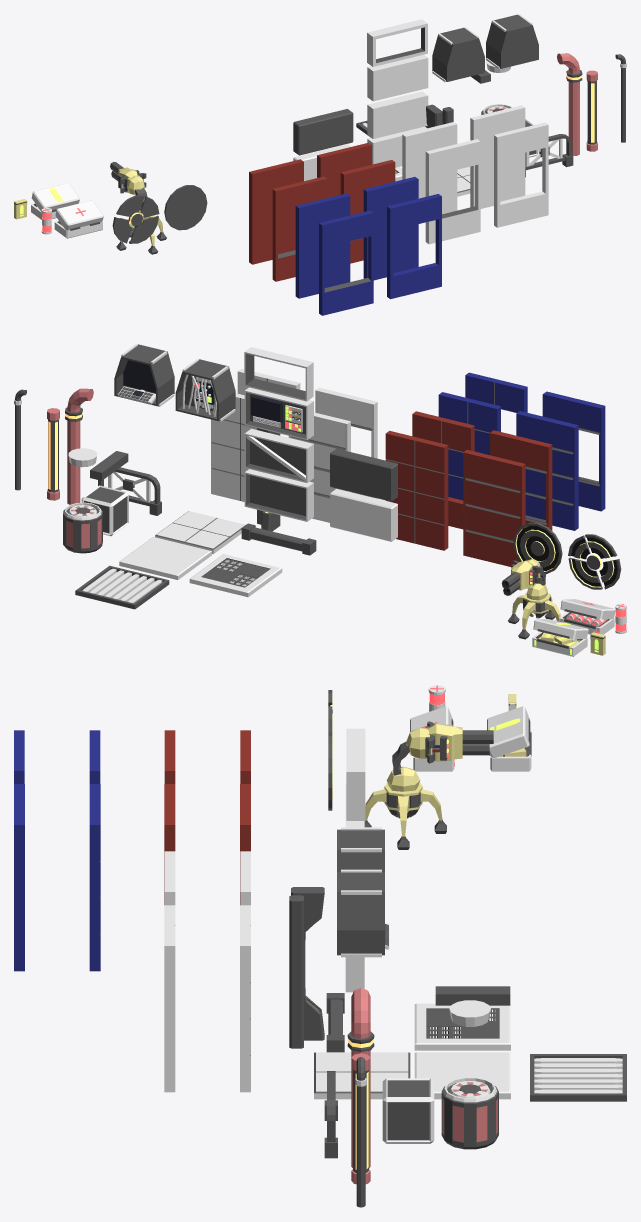
Rendered from Game_Level_Assets_two.dae.
3 renders of one model, top to bottom at view 1: azimuth 30°, elevation 25°; view 2: azimuth 150°, elevation 25°; view 3: azimuth 270°, elevation 25°, orthographic. The views are drawn at different scales.
Parts seen in each view (by area): view 1: Wall_two_BLUE, Wall_two_RED, Wall_BLUE, Wall, Wall_window, Wall_two_window_BLUE, Wall_window_BLUE, Wall_two_window, Wall_two, Computer_cube, Computer_cube_two, Wall_two_window_RED (+17 smaller); view 2: Wall_two_RED, Wall_RED, Wall_two_BLUE, Wall, Computer_cube, Computer_cube_two, Wall_two_window_BLUE, Wall_BLUE, Ship_panel_two, Ship_panel, Ship_panel_three, Ship_panel_six (+29 smaller); view 3: Floor_tile_four, Computer_cube_two, Cylinder, Floor_tile_three, Crate, Floor_tile_two, Floor_tile, Turret_Head, Turret_base, Ammo_Box, Pillar, Wall_BLUE (+16 smaller).
Part boxes in pixels (<box>): Wall_two_BLUE: <box>295,193,350,298</box>; Wall_two_RED: <box>249,159,303,264</box>; Wall_BLUE: <box>363,177,418,280</box>; Wall: <box>470,105,525,208</box>; Wall_window: <box>494,122,548,227</box>; Wall_two_window_BLUE: <box>319,210,373,315</box>; Wall_window_BLUE: <box>387,194,441,299</box>; Wall_two_window: <box>425,139,480,244</box>; Wall_two: <box>402,122,457,223</box>; Computer_cube: <box>432,27,484,82</box>; Computer_cube_two: <box>486,14,538,68</box>; Wall_two_window_RED: <box>272,176,327,281</box>; Wall_two_RED: <box>463,449,525,566</box>; Wall_RED: <box>385,430,448,550</box>; Wall_two_BLUE: <box>516,411,578,530</box>; Wall: <box>211,393,256,501</box>; Computer_cube: <box>175,359,235,421</box>; Computer_cube_two: <box>114,344,174,406</box>; Wall_two_window_BLUE: <box>542,391,605,511</box>; Wall_BLUE: <box>438,392,500,500</box>; Ship_panel_two: <box>244,428,313,482</box>; Ship_panel: <box>244,469,313,521</box>; Ship_panel_three: <box>244,387,313,439</box>; Ship_panel_six: <box>330,448,397,501</box>; Floor_tile_four: <box>530,1054,626,1101</box>; Computer_cube_two: <box>337,869,389,957</box>; Cylinder: <box>441,1077,498,1149</box>; Floor_tile_three: <box>414,1003,510,1050</box>; Crate: <box>382,1078,434,1143</box>; Floor_tile_two: <box>414,1052,510,1099</box>; Floor_tile: <box>314,1052,410,1099</box>; Turret_Head: <box>392,721,493,775</box>; Turret_base: <box>364,766,446,849</box>; Ammo_Box: <box>487,706,531,771</box>; Pillar: <box>289,895,303,1048</box>; Wall_BLUE: <box>89,784,100,971</box>.
Bounding box in the file's own units: 110 × 63.65 × 32.31.
1 material, 1 textured.
